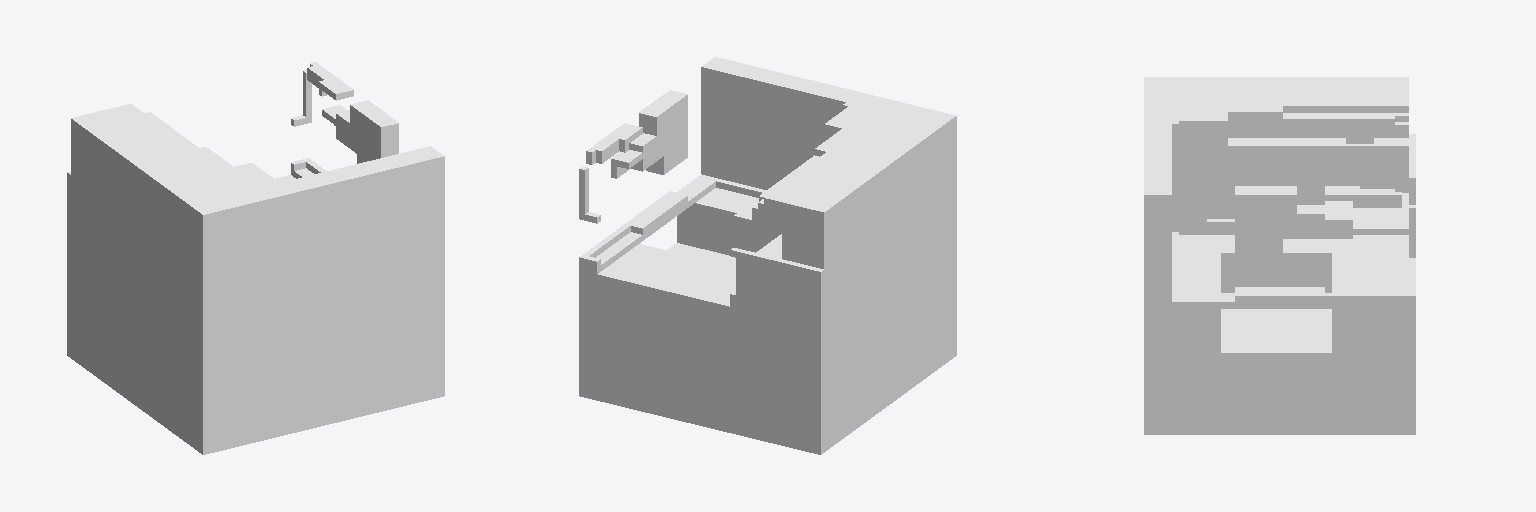
Rendered from cubop.obj.
3 renders of one model, left to right at view 1: azimuth 30°, elevation 25°; view 2: azimuth 150°, elevation 25°; view 3: azimuth 270°, elevation 25°, orthographic.
Bounding box in the file's own units: 40 × 38 × 39.